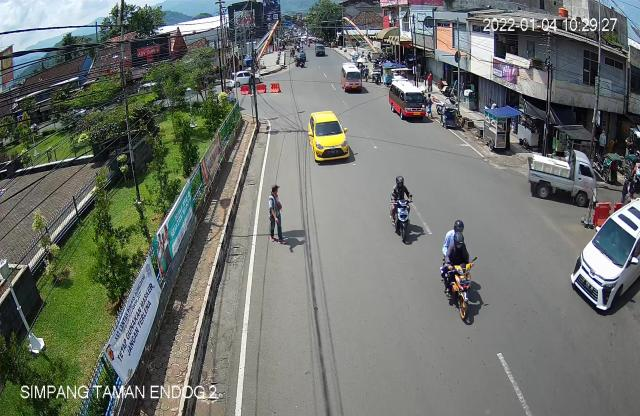Mobil: (569, 196, 640, 315), (526, 146, 598, 206), (306, 106, 354, 174), (385, 76, 430, 128)
Motor: (436, 218, 486, 325), (384, 168, 418, 244)
